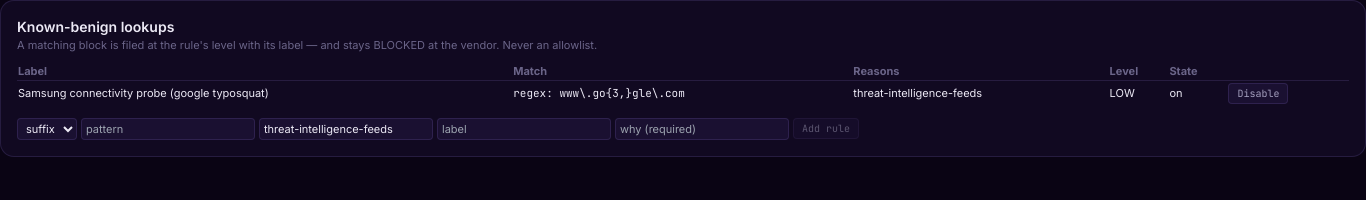
Test: EntityLinksPanel + KnownBenignPanel › lists the known-benign rules and adds one with a reason
This screenshot has width=1366, height=200.
Check: the row with test id "kb-rule-1" shows "Samsung connectivity probe", box [18, 86, 269, 100]
Check: the button with test id "kb-add" is disabled, box [793, 118, 859, 139]
In the field labelled "pattern": [168, 129] box [81, 118, 255, 140], type "probe.example"
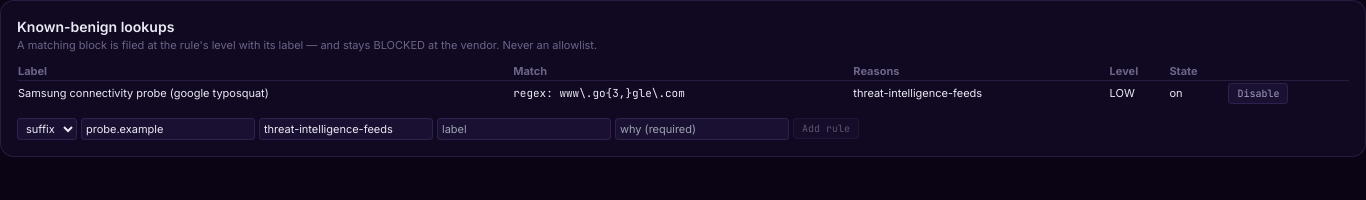
In the field labelled "label": [524, 129] box [437, 118, 611, 140], type "Printer probe"
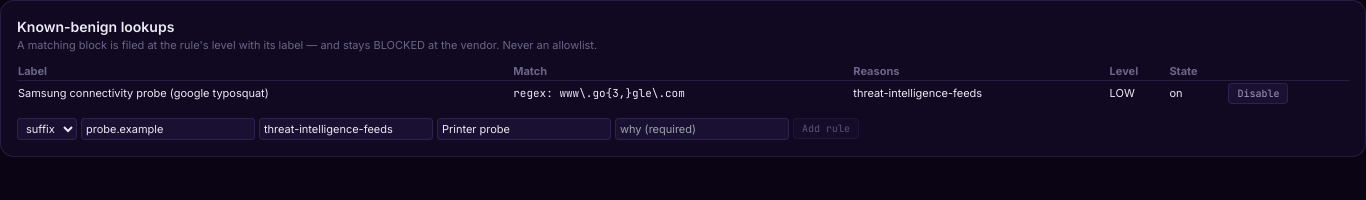
In the field labelled "why": [702, 129] box [615, 118, 789, 140], type "known printer check"
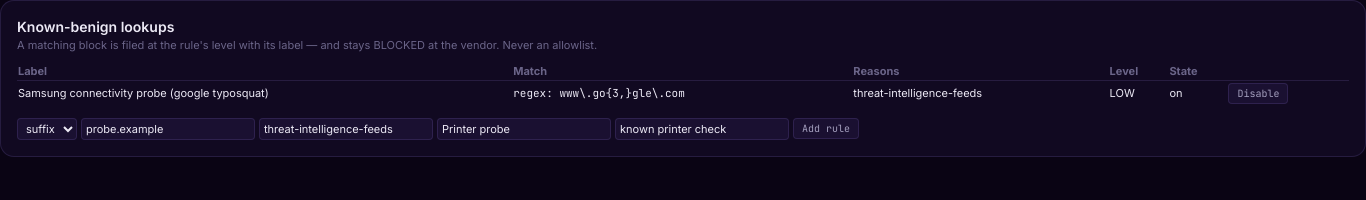
Click the button with test id "kb-add": [826, 129] box [793, 118, 859, 139]
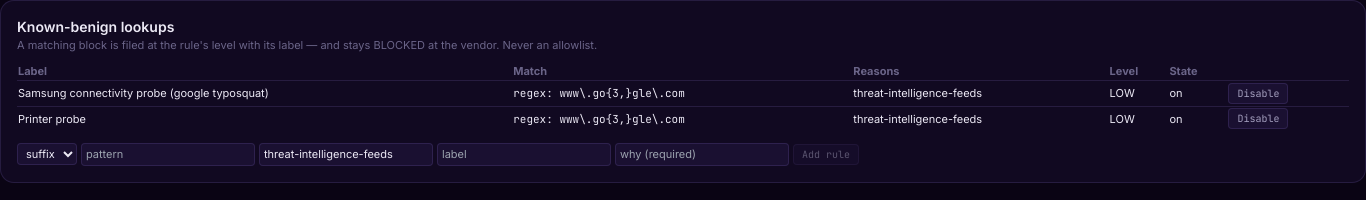
Check: the row with test id "kb-rule-2" shows "Printer probe", box [18, 112, 86, 126]
